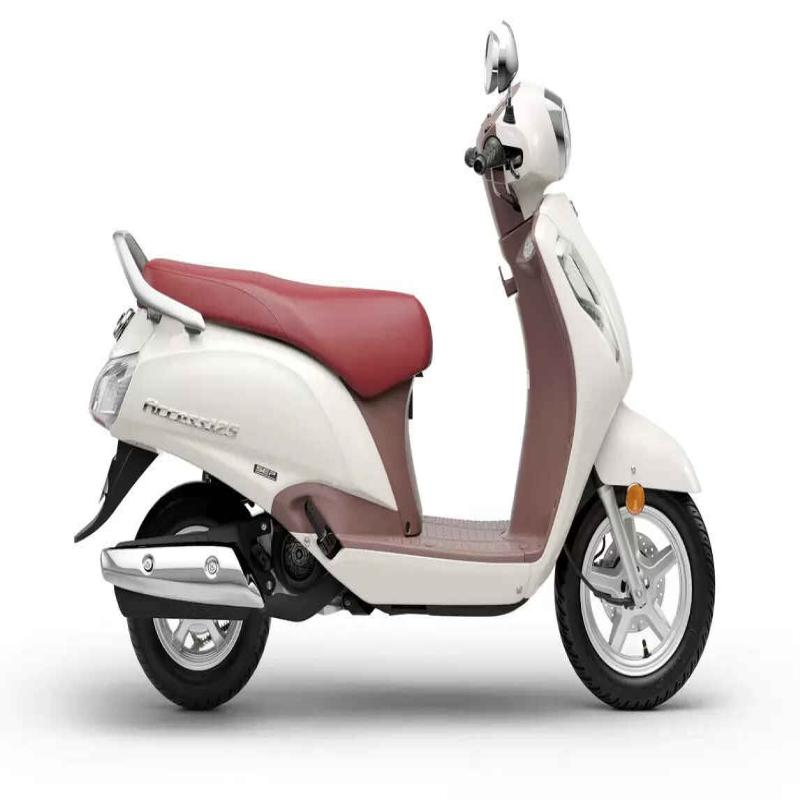bike: (86, 27, 712, 775)
